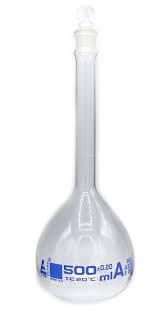Volumetric flask: (29, 17, 143, 304)
